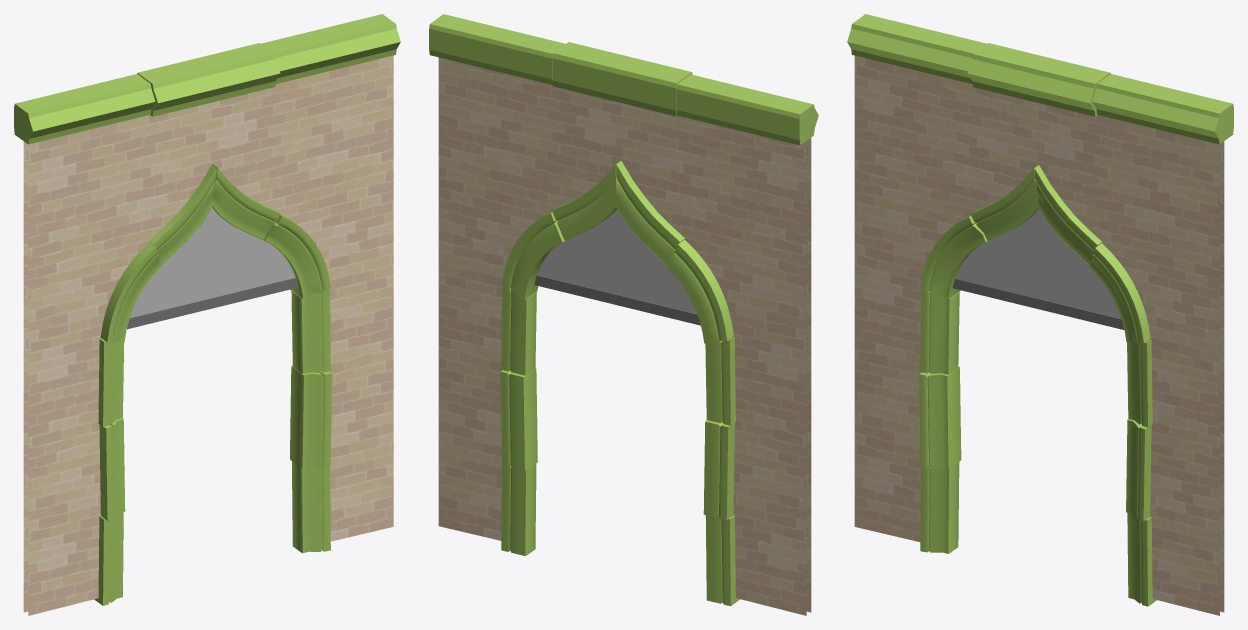
Rendered from SM_wall_c_door.fbx.
The picture shows the model from 3 angles, left to right: view 1: azimuth 30°, elevation 25°; view 2: azimuth 150°, elevation 25°; view 3: azimuth 330°, elevation 25°; orthographic projection.
Parts seen in each view (by area): view 1: Plane101; view 2: Plane101; view 3: Plane101.
Part boxes in pixels (bbox=[...]): Plane101: bbox=[14, 14, 400, 615]; Plane101: bbox=[429, 14, 818, 615]; Plane101: bbox=[847, 14, 1233, 615].
Size of the model in its own units: 156 by 206 by 15.79.
